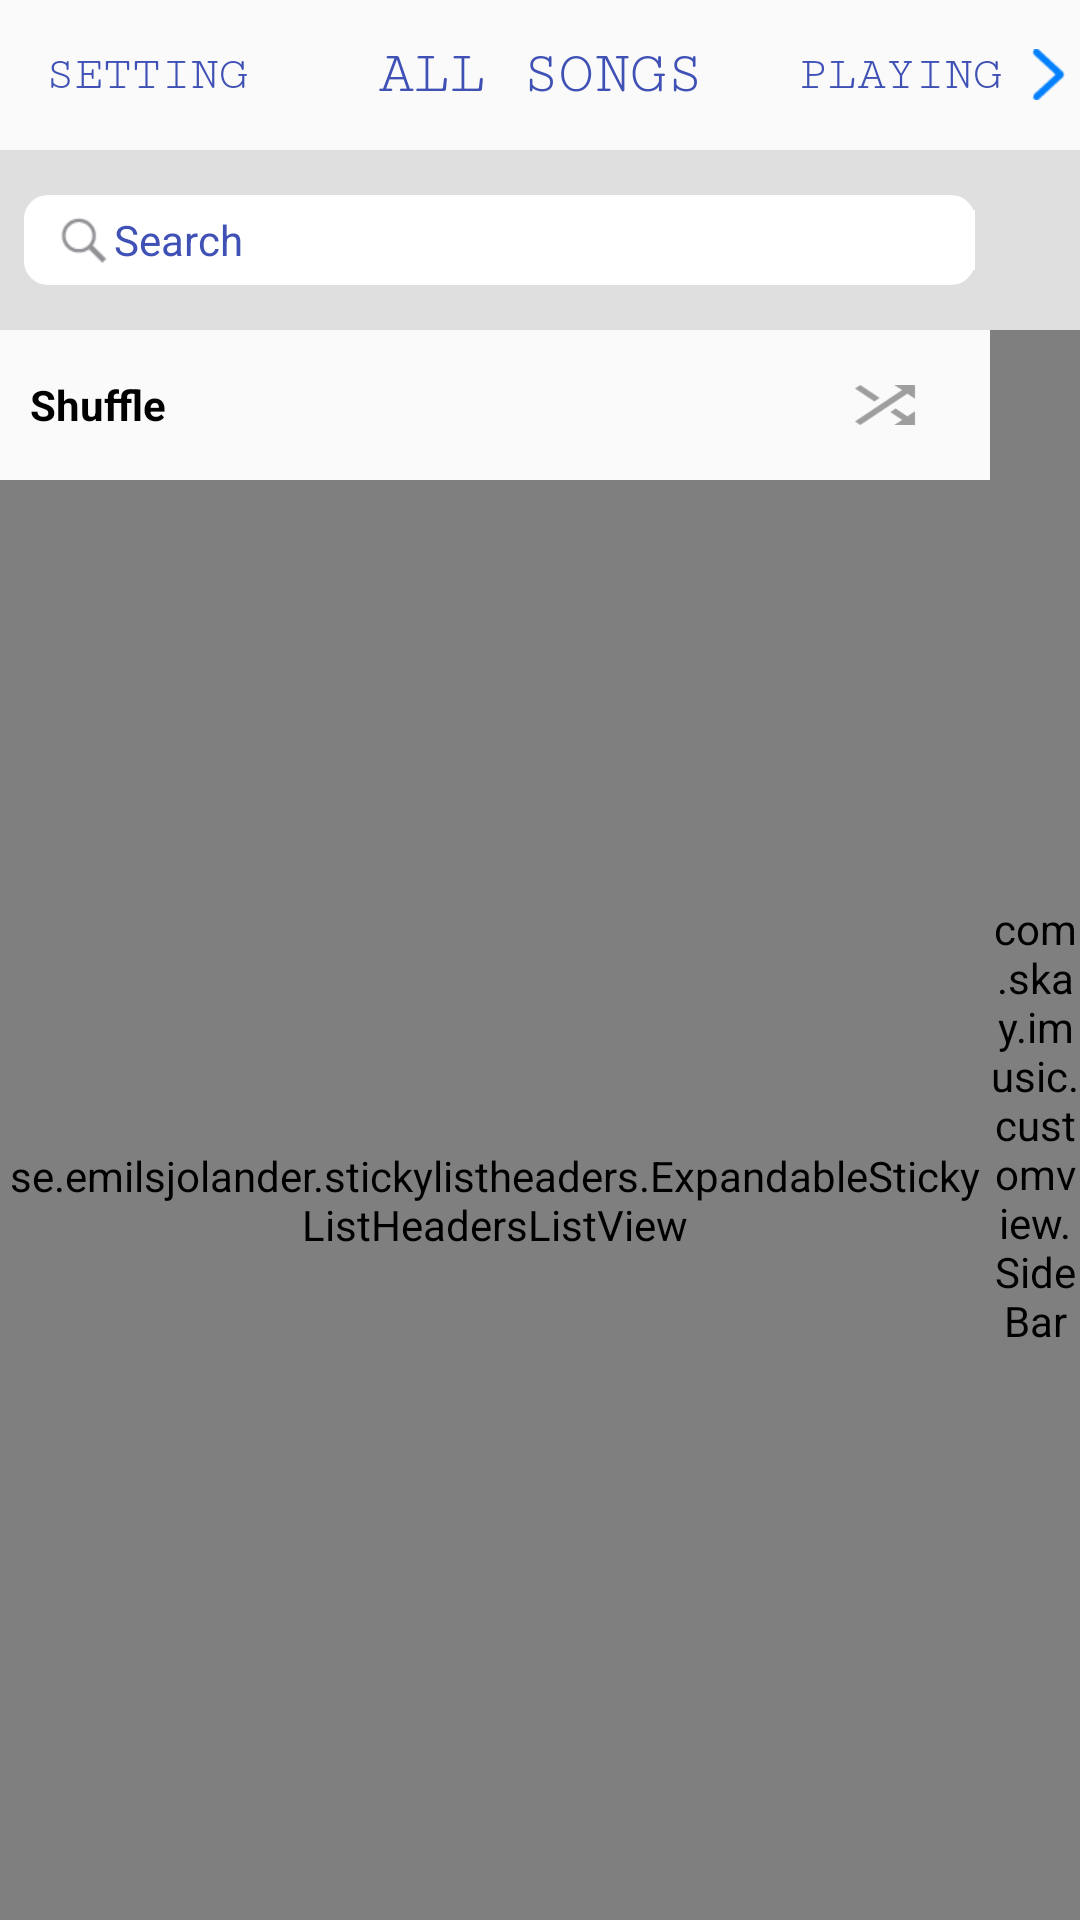

Point at icon controls on the screen. Image size 1080px×1920px, points as (x=x, y=y).
shuffle: (x=885, y=405)
